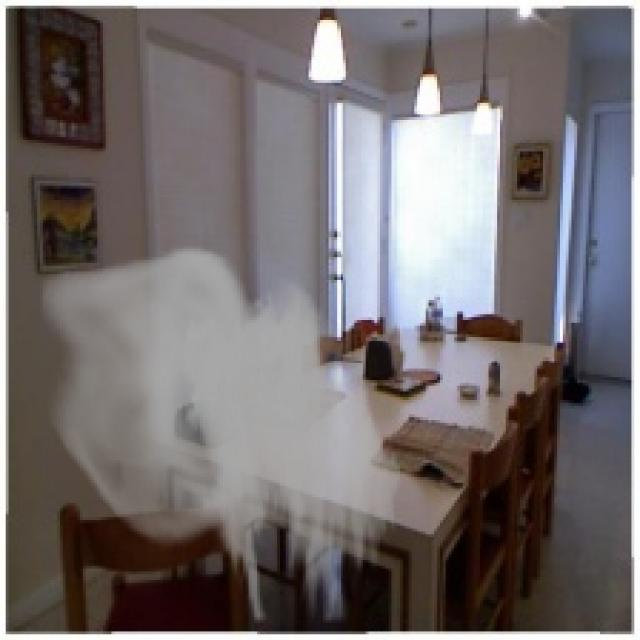smoke: (40, 246, 406, 623)
